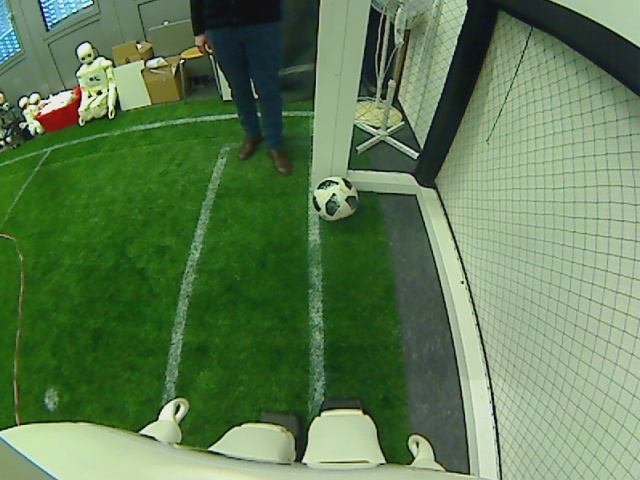ball: (313, 174, 358, 219)
